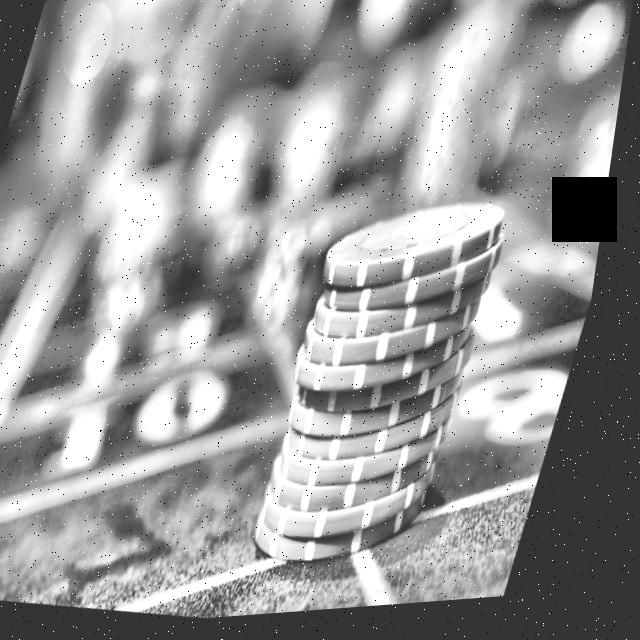Chip: (238, 163, 543, 603)
